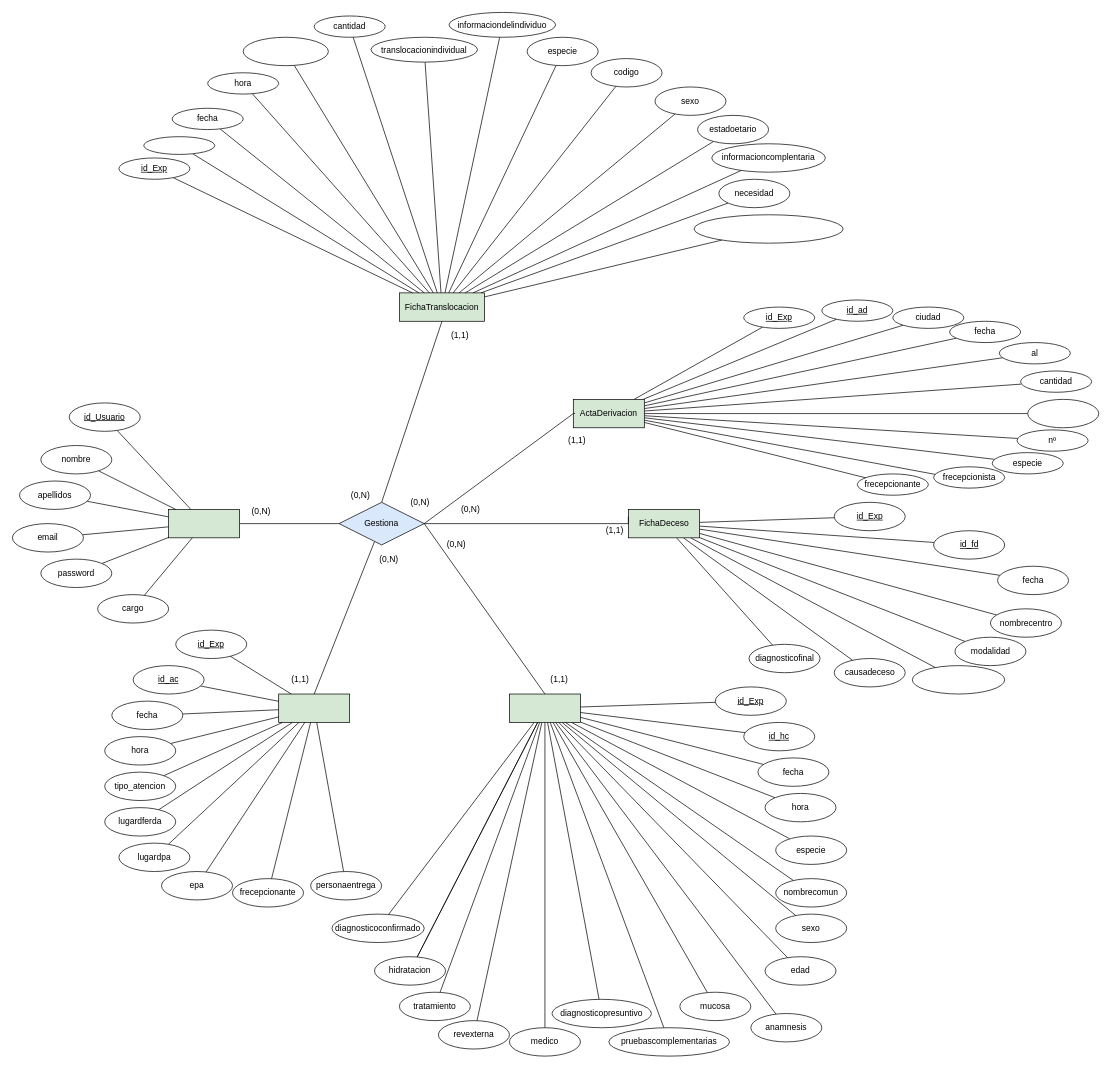
Image size: 1111x1069. Some labels were removed from this diagram. Each missing label, with the centre of its shape:
"ActaRecepcion" belongs at (314,707).
"descripcionestado" belongs at (1063,413).
"HistoriaClinica" belongs at (544,707).
"id_ft" belongs at (179,145).
"informacionejemplar" belongs at (958,679).
"informacionespacialtranslocacion" belongs at (768,228).
"translocaciongrupal" belongs at (285,51).
"Usuario" belongs at (204,523).
